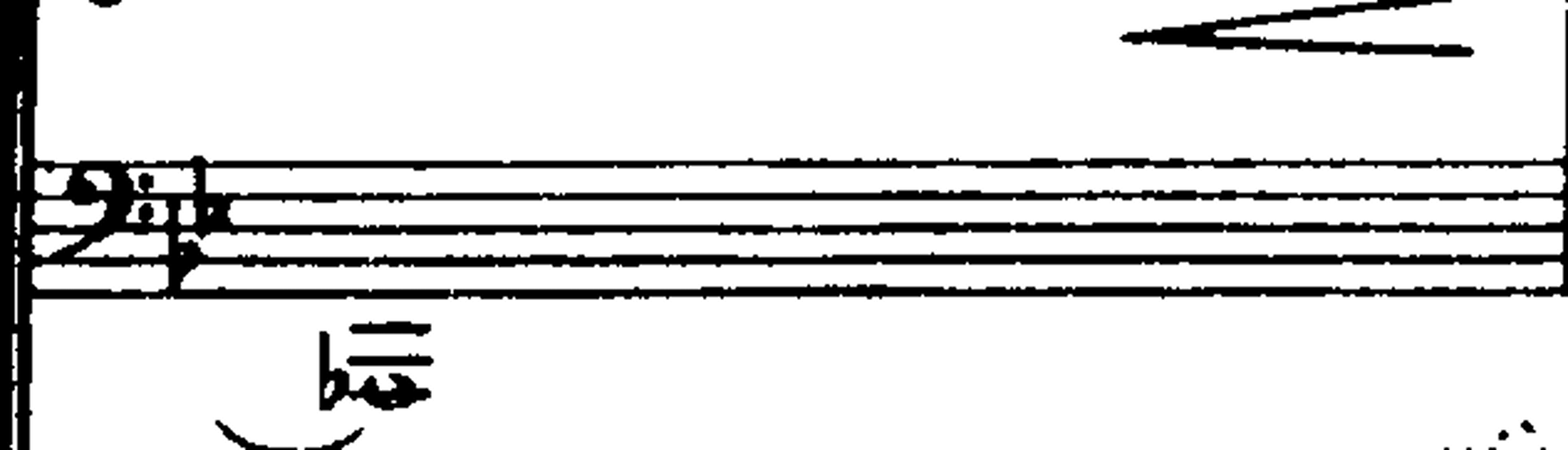beam: (215, 420, 265, 450)
clefF: (49, 141, 159, 292)
noteheadBlackInSpace: (0, 1, 33, 21), (0, 1, 24, 23), (0, 56, 20, 77), (0, 214, 14, 237)
noteheadBlackOnLine: (215, 420, 266, 450)
restHalf: (1429, 44, 1473, 56), (1215, 159, 1256, 167)
restQuarter: (1561, 163, 1568, 213)
